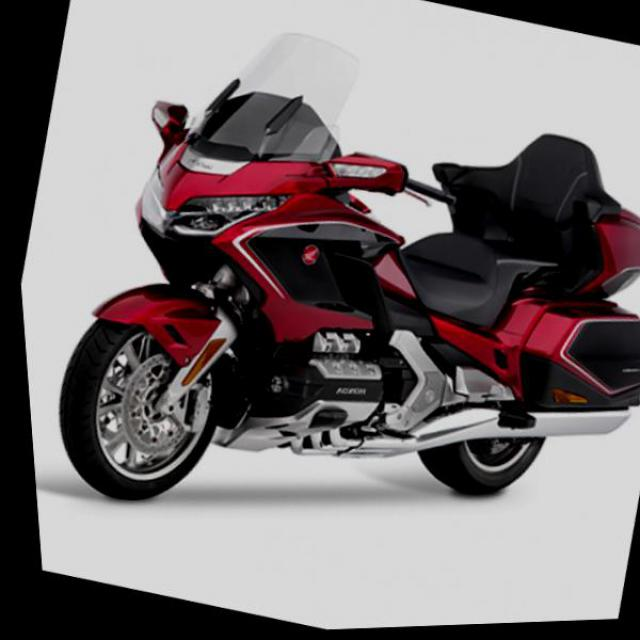Gold Wing: (6, 0, 639, 627)
